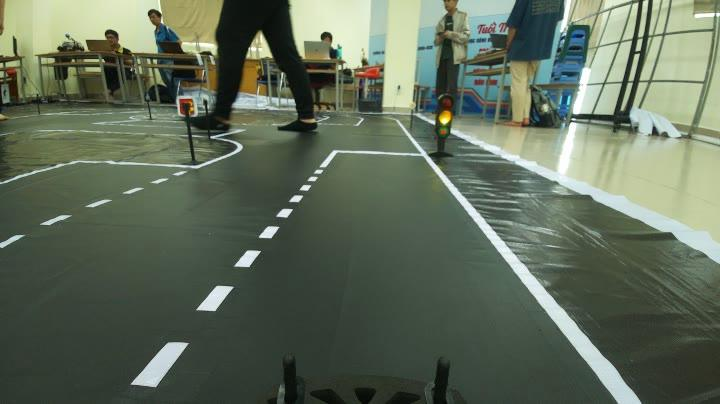trafficlight: (421, 88, 463, 162)
